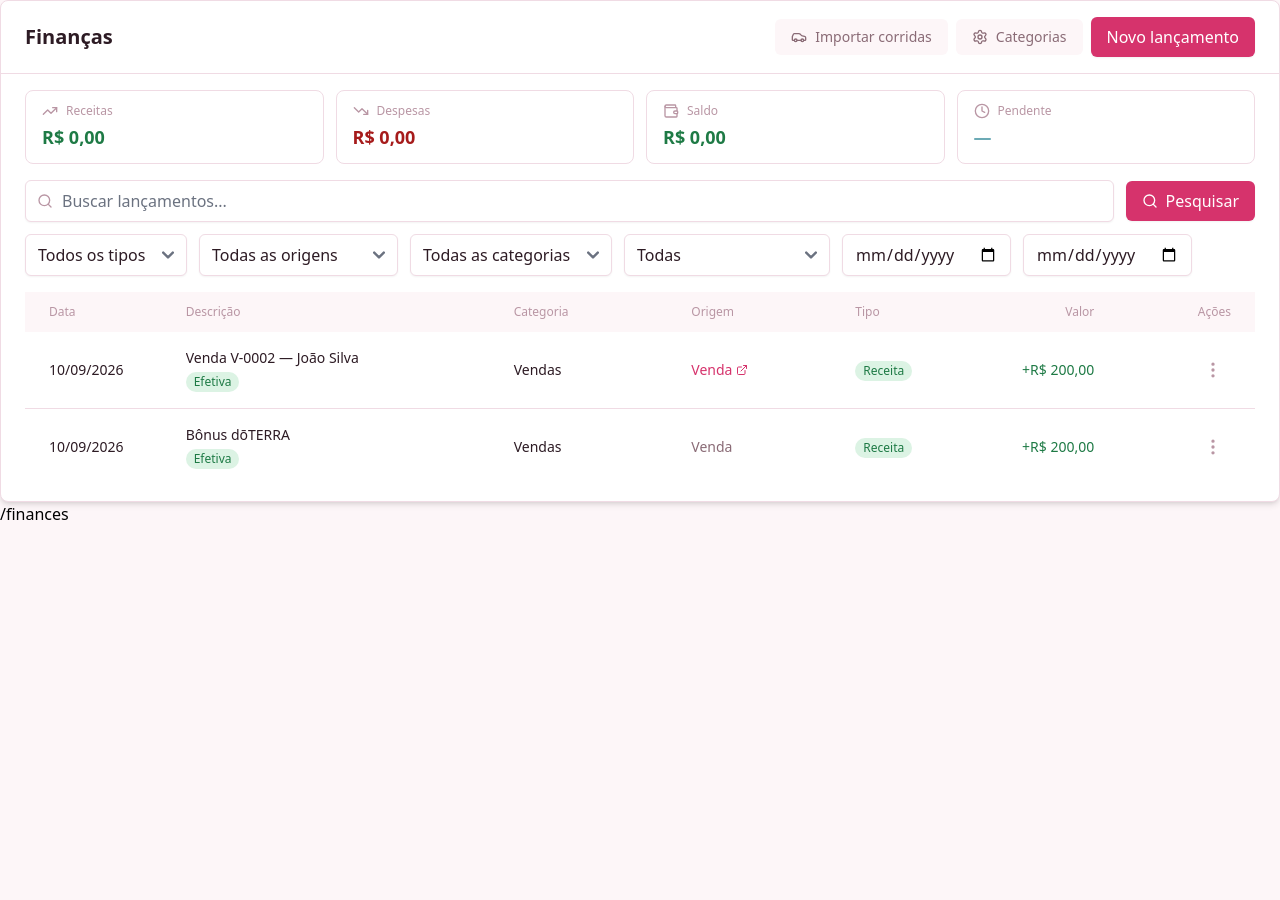
it: Finances deep links › details from the table action menu › opens the details modal for a manual row and mirrors the id in the URL
Expected: the text "Venda V-0002 — João Silva" is shown, [186,348,359,367]
Click the button named "Ações do lançamento" in the row of "Bônus dōTERRA". click: x=1213, y=447
box: [1195,429,1231,465]
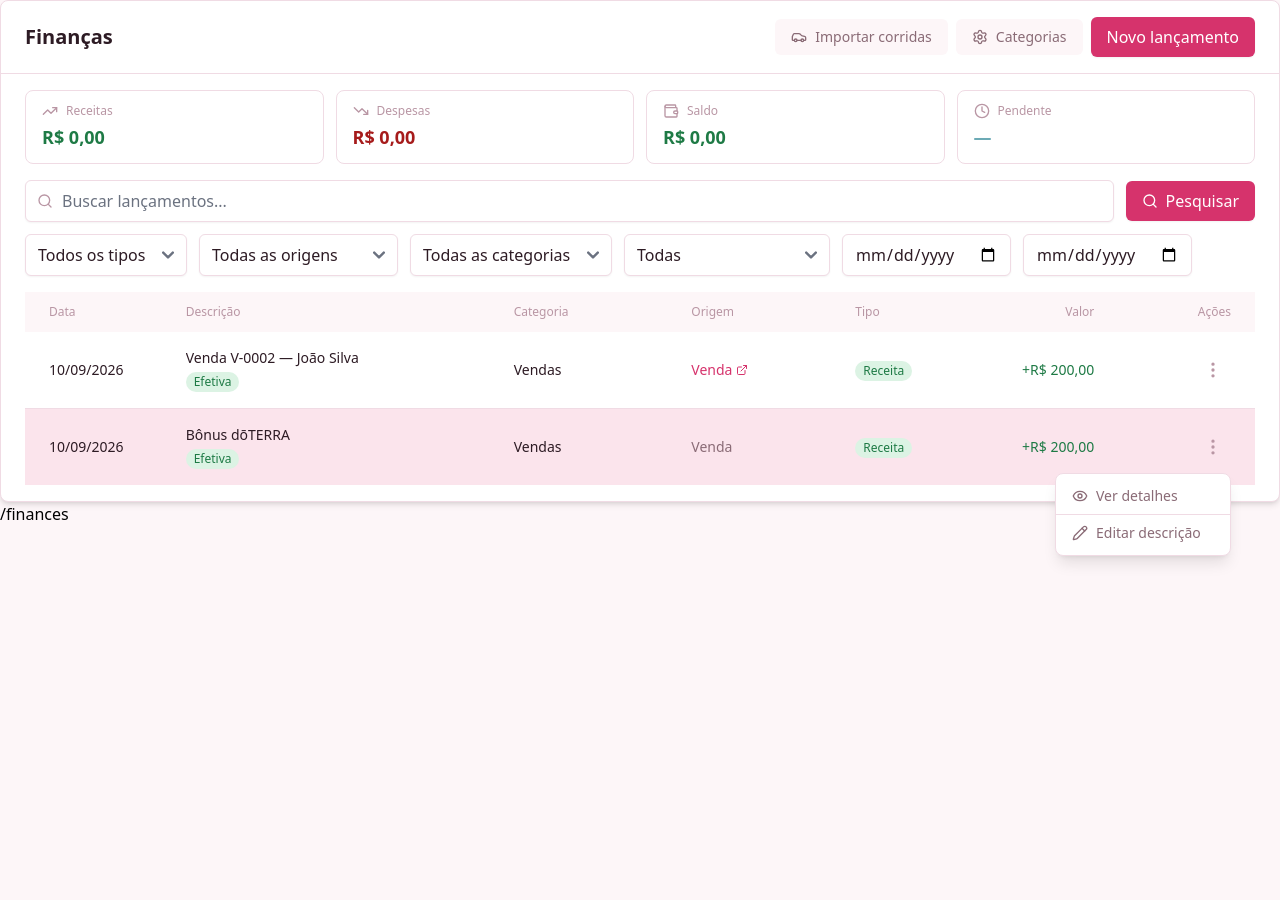
Click the menu item "Ver detalhes". click: x=1143, y=496
box: [1056,478,1230,514]
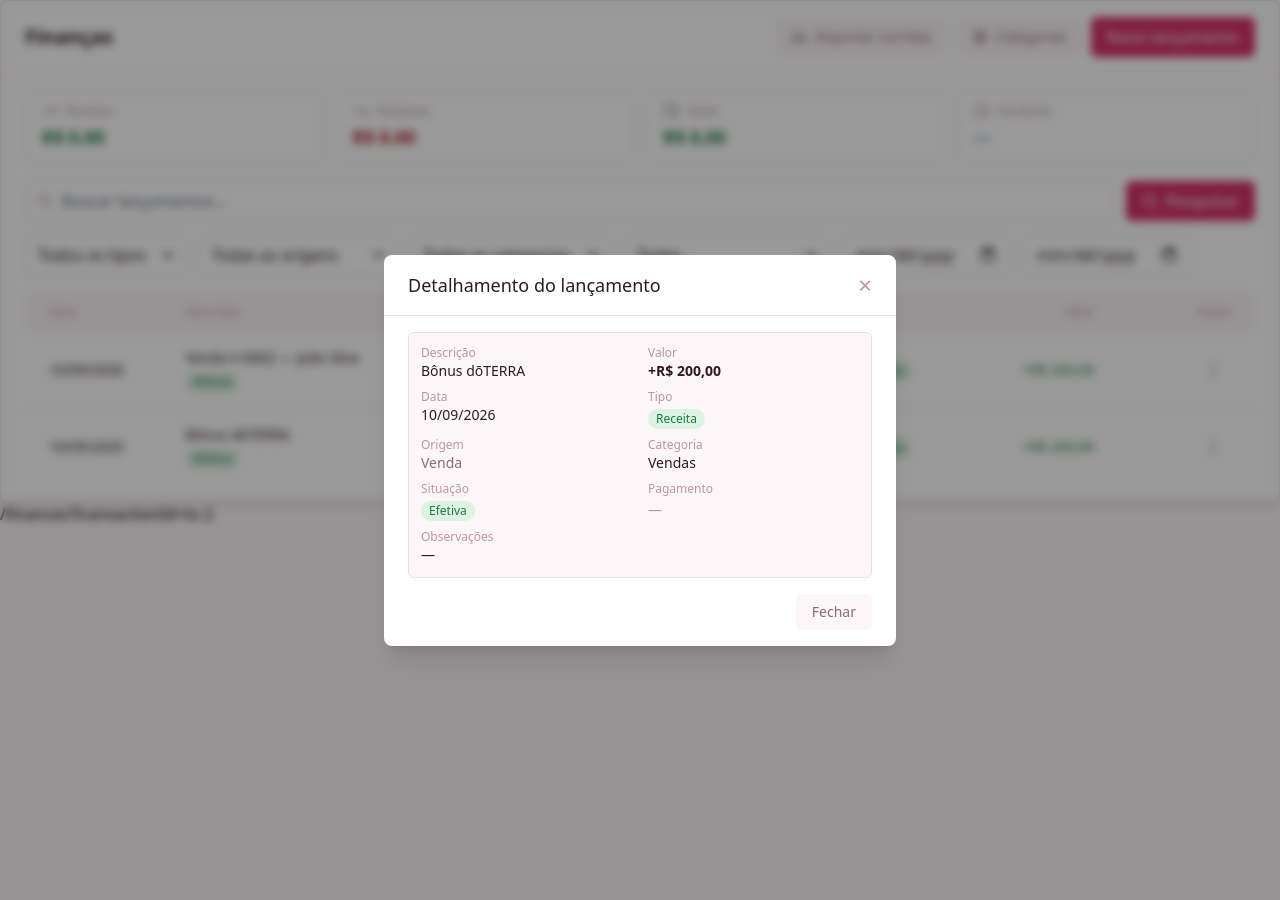
Now the element with test id "transaction-details-modal" is shown
Now the text with test id "transaction-details-description" reads "Bônus dōTERRA", box [421,360,525,380]
Now the text with test id "route-probe" reads "/finances?transactionId=tx-2", box [0,503,213,525]
